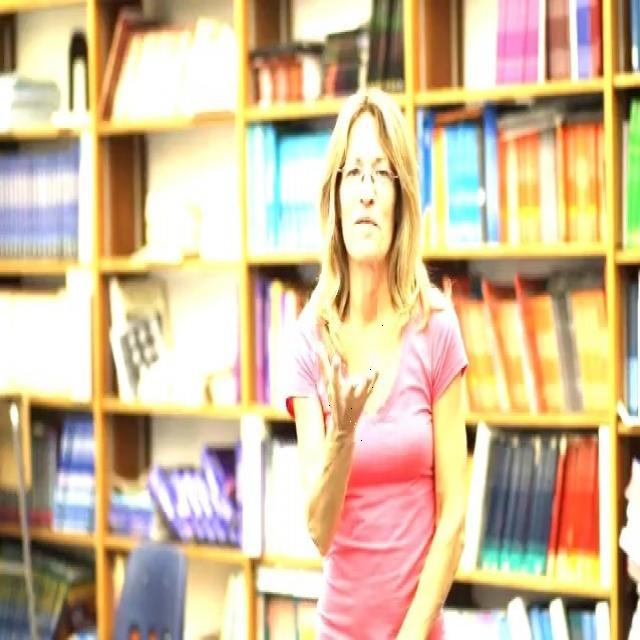warm: (316, 324, 384, 442)
